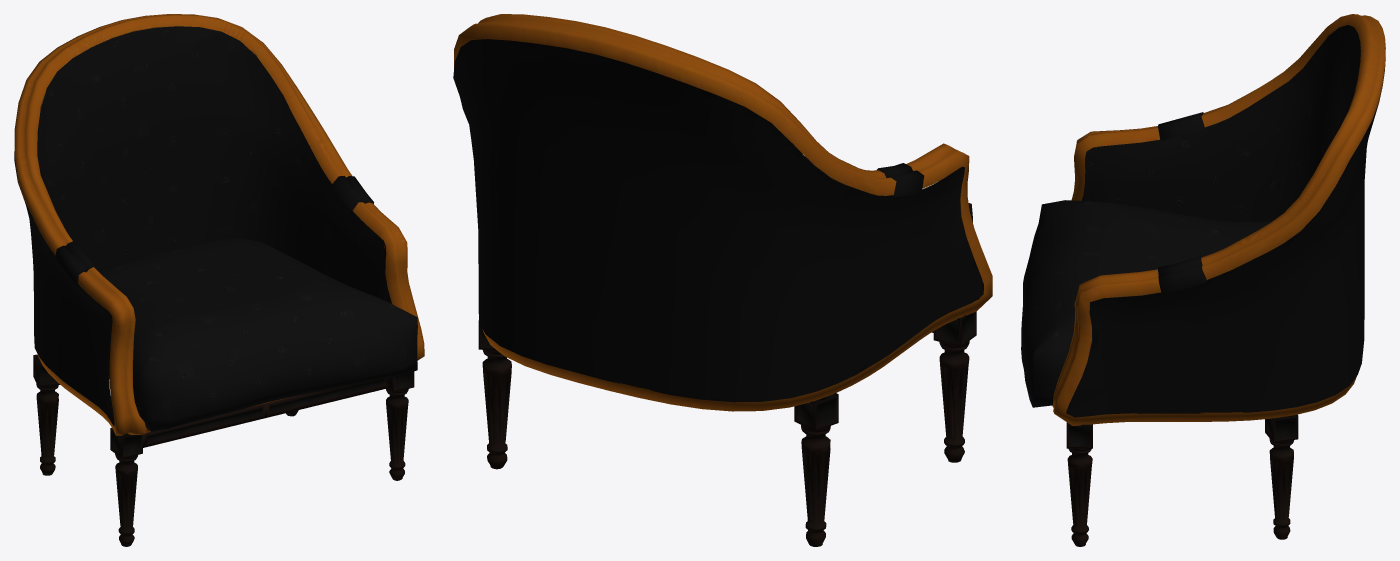
File: chair_005.glb
3 views of the same model, side by side, from view 1: azimuth 30°, elevation 25°; view 2: azimuth 150°, elevation 25°; view 3: azimuth 270°, elevation 25° (orthographic). The views are drawn at different scales.
Parts seen in each view (by area): view 1: chair_005; view 2: chair_005; view 3: chair_005.
Boxes of the visible parts, x1,y1,x2,y2 form: chair_005: [14, 14, 424, 546]; chair_005: [453, 14, 992, 546]; chair_005: [1021, 14, 1385, 546].
Bounding box in the file's own units: 0.8068 × 0.9894 × 0.7607.
Materials: 1 (1 with a texture image).
